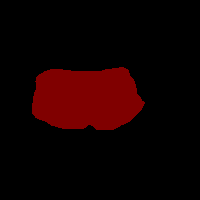mutande: (32, 67, 145, 130)
